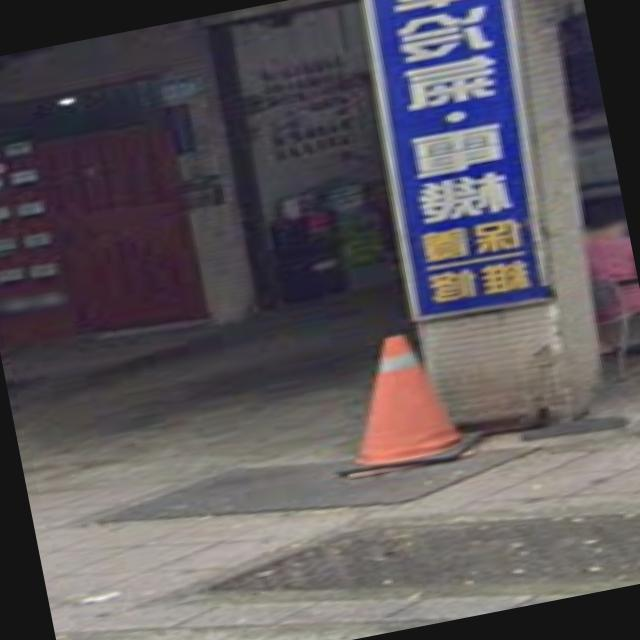cone: (288, 304, 508, 502)
